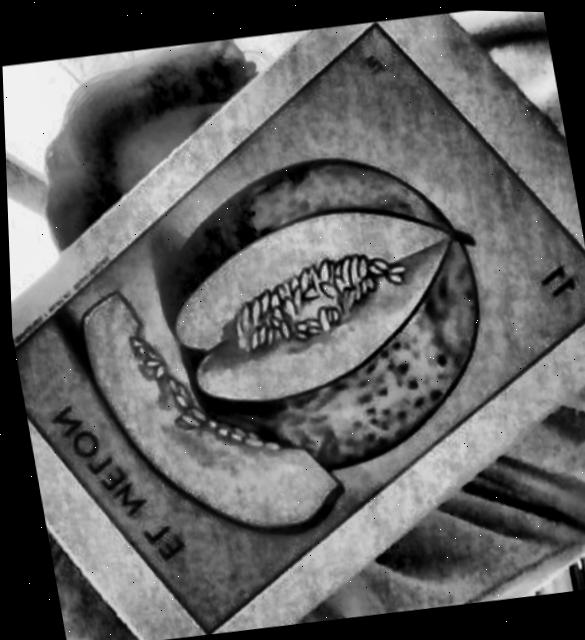El Melon: (12, 24, 585, 632)
